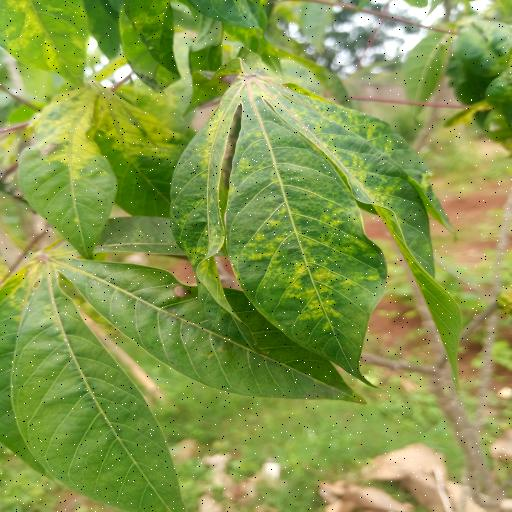Cassava_Mosaic: (171, 57, 482, 390), (12, 69, 204, 259)
